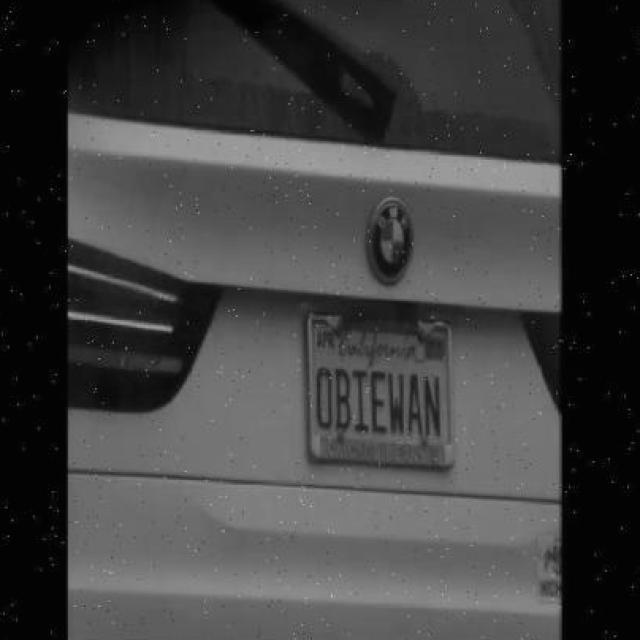licenseplate: (307, 307, 457, 475)
